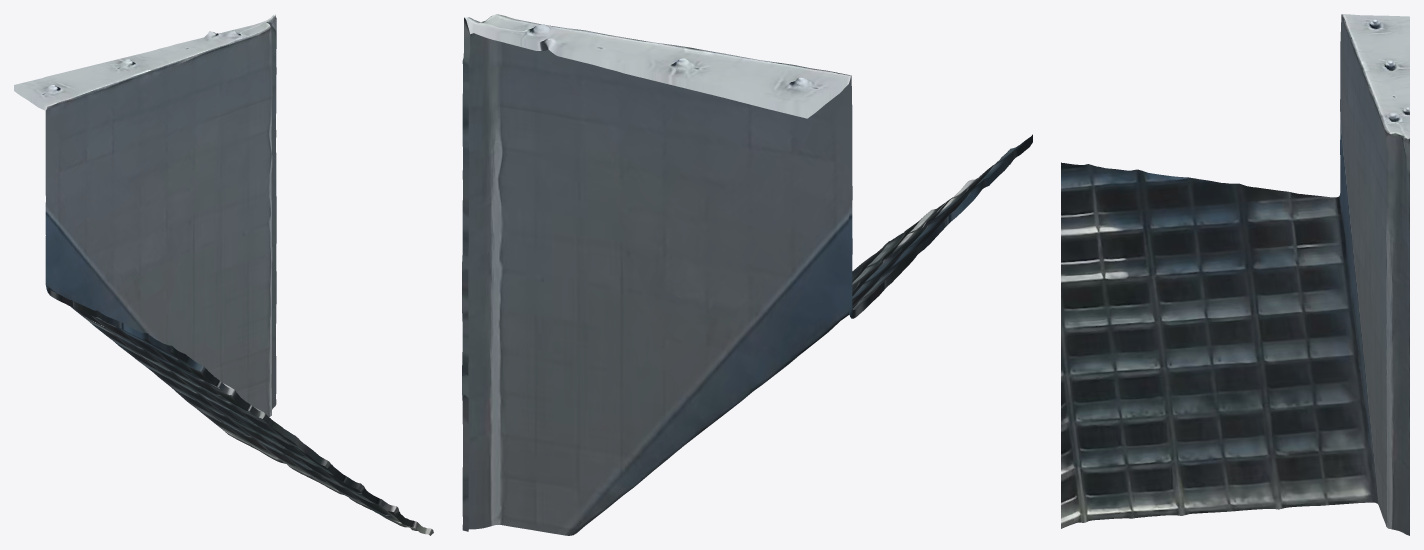
The model's file is z20-167783-405224-h1-yup-uvflip-v3-world.glb.
The picture shows the model from 3 angles, left to right: view 1: azimuth 30°, elevation 25°; view 2: azimuth 150°, elevation 25°; view 3: azimuth 270°, elevation 25°; orthographic projection. The views are drawn at different scales.
Size of the model in its own units: 26.8 by 38.32 by 30.32.
Materials: 1 (1 with a texture image).
